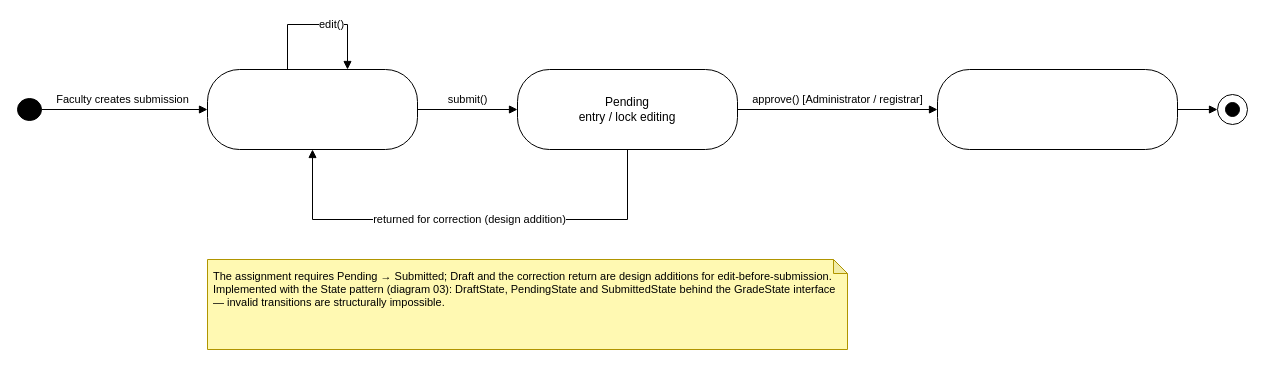
This 1265x367 diagram has some shape labels left out. The shapes that lost their labels are listed below. From the top down, each one's centre as x and y in pixels, then its label:
At (312,109): "Draft entry / editing enabled".
At (1057,109): "Submitted entry / persist GradeRecords".
